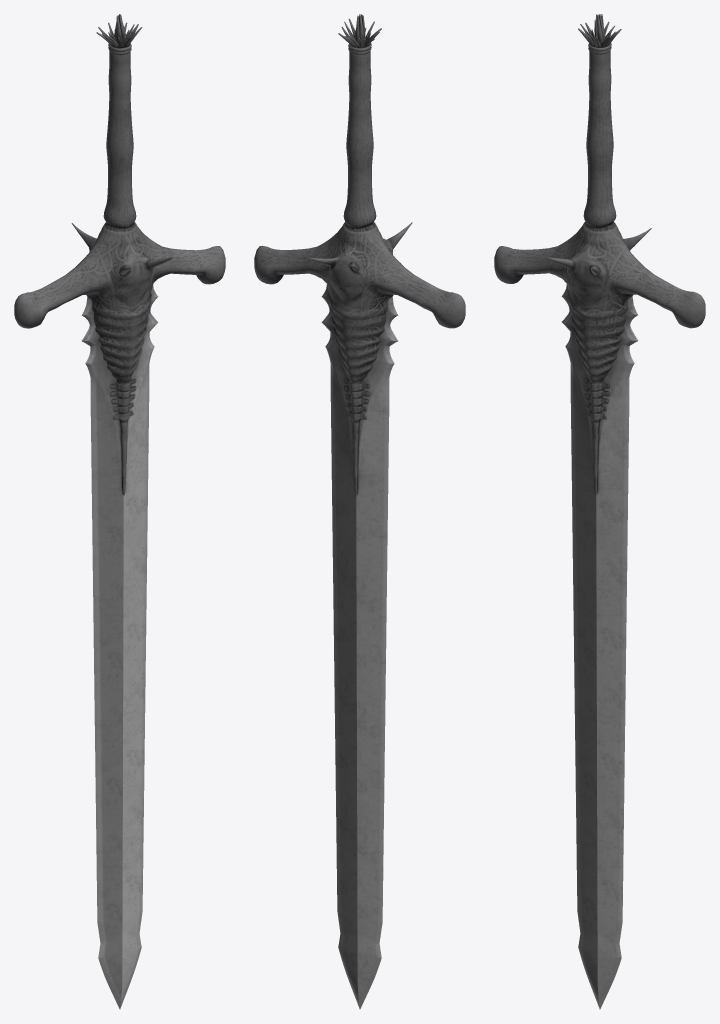
The model's file is Rebellion_Sword.fbx.
3 views of the same model, side by side, from view 1: azimuth 30°, elevation 25°; view 2: azimuth 150°, elevation 25°; view 3: azimuth 330°, elevation 25° (orthographic).
Visible parts, largest first — view 1: Dante_no_coat.003; view 2: Dante_no_coat.003; view 3: Dante_no_coat.003.
Part boxes in pixels (bbox=[...]): Dante_no_coat.003: bbox=[14, 14, 225, 1009]; Dante_no_coat.003: bbox=[254, 14, 465, 1009]; Dante_no_coat.003: bbox=[494, 14, 705, 1009].
Bounding box in the file's own units: 37.47 × 169 × 18.53.
1 material, 1 textured.
